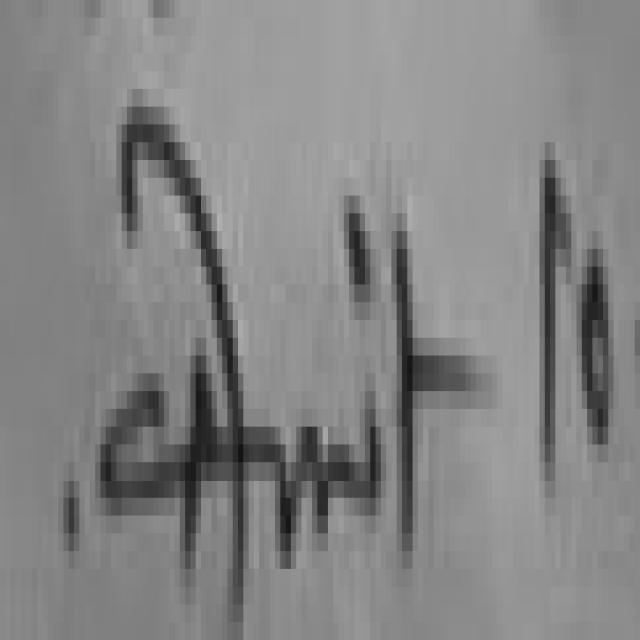0: (587, 267, 614, 444)
1: (545, 160, 561, 489)
A: (100, 107, 244, 631)
i: (349, 213, 370, 302), (367, 408, 377, 513)
m: (246, 427, 367, 560)
t: (393, 222, 468, 555)
